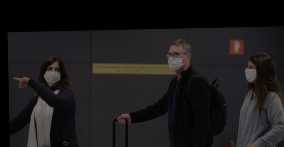with_mask: (164, 49, 186, 71), (41, 64, 62, 86), (243, 63, 256, 84)
